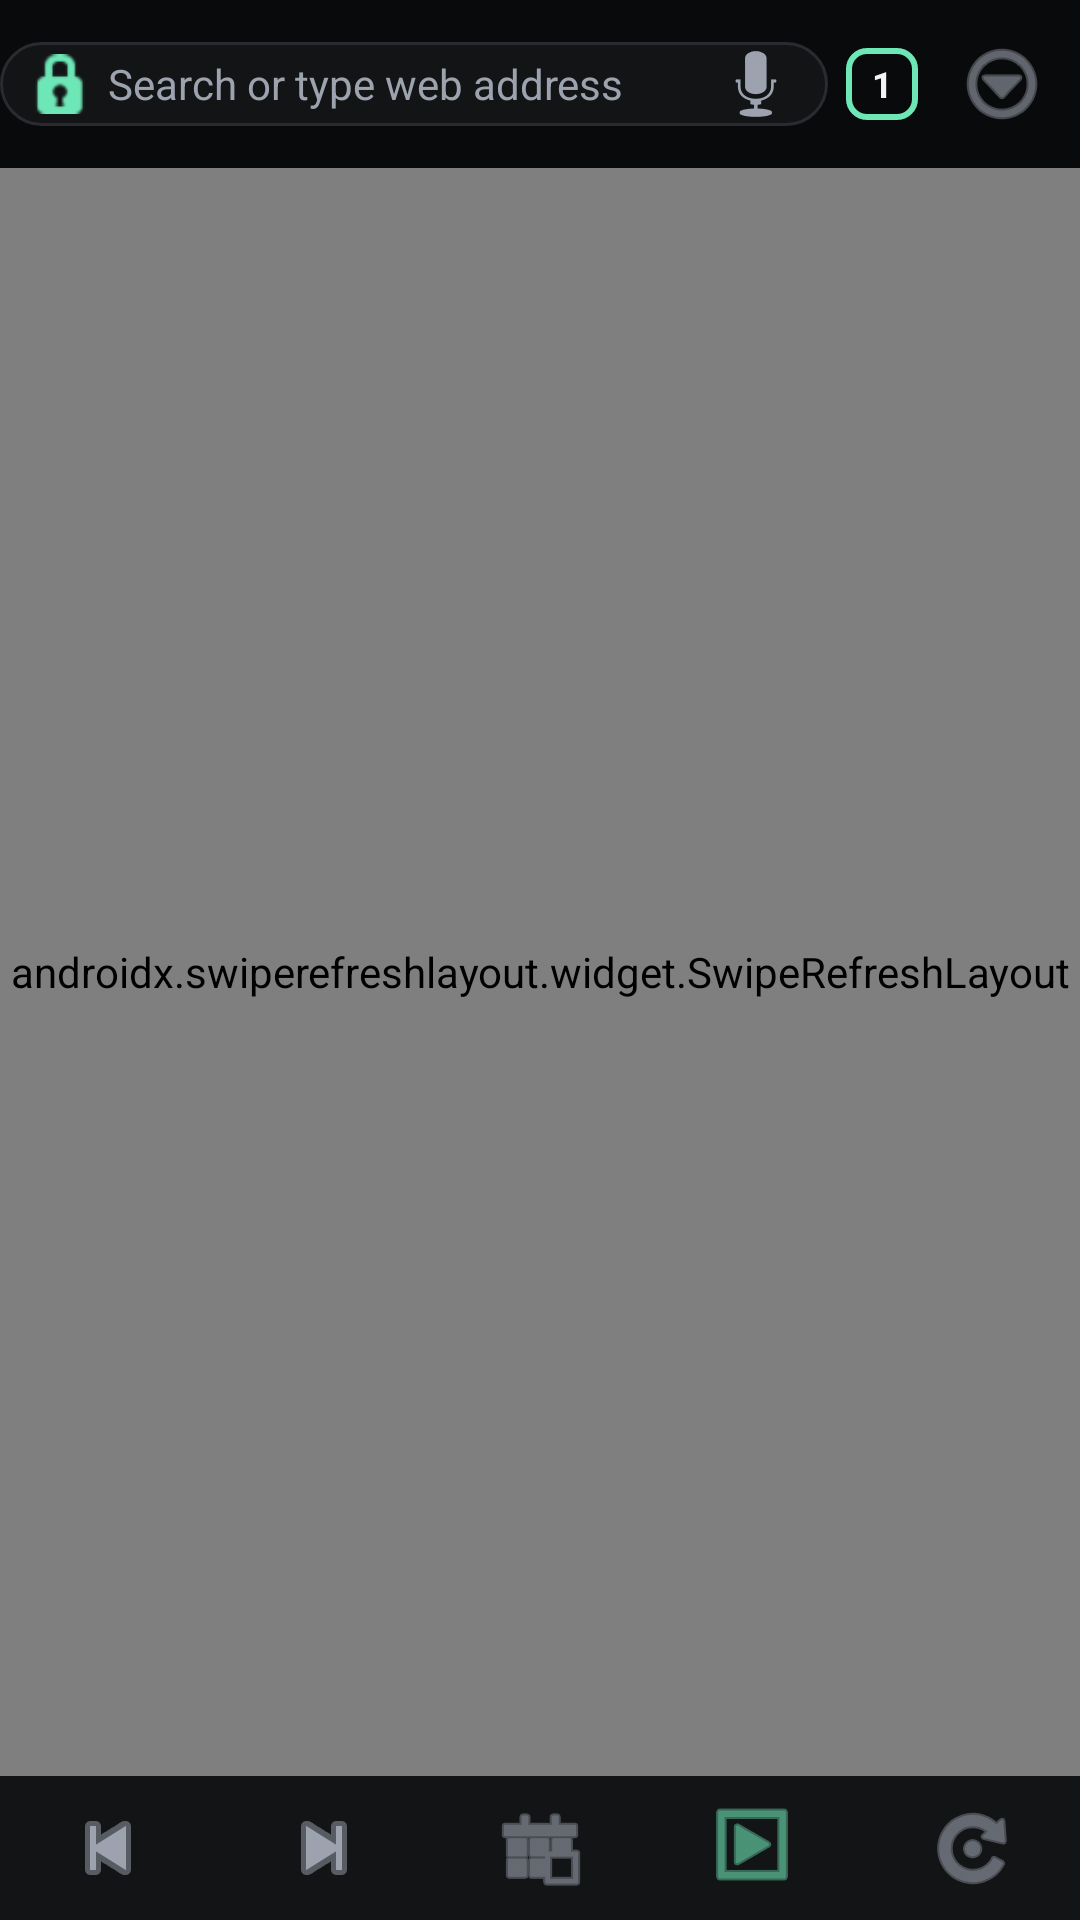

Where to tap for icons on this 1080px×1920px app screen, as [x,y]:
Back: [108,1848]
Connection is secure: [59,84]
Forward: [324,1848]
Menu: [1002,84]
Preview Mode: [752,1844]
Reload: [972,1848]
Voice Search: [756,84]
